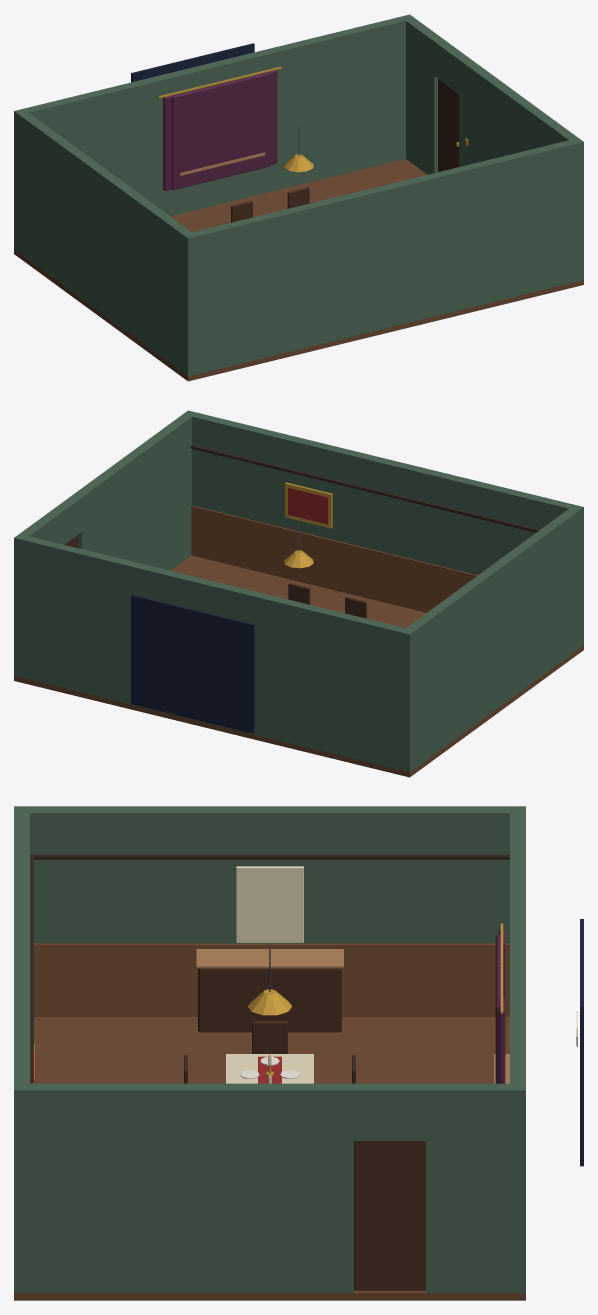
Rendered from greybox.glb.
The picture shows the model from 3 angles, top to bottom: view 1: azimuth 30°, elevation 25°; view 2: azimuth 150°, elevation 25°; view 3: azimuth 270°, elevation 25°; orthographic projection. The views are drawn at different scales.
Parts seen in each view (by area): view 1: wall_s, wall_w, wall_n_b, wall_n_a, curtain_closed, floor, wall_e_a, wall_e_b, wall_n_sill, front_door, wall_n_head, sky (+3 smaller); view 2: wall_s, wall_w, wall_n_a, wall_n_b, sky, wainscot_s, wall_e_a, floor, wall_n_head, rail_s, painting_canvas, wall_e_lintel (+2 smaller); view 3: wall_e_a, wall_w, floor, wainscot_w, wall_e_b, front_door, sideboard, wall_s, mirror_cover, wall_n_b, wall_e_lintel, sideboard_top (+10 smaller).
Boxes of the visible parts, left/top/right/bottom form: wall_s: left=182, top=138, right=583, bottom=376; wall_w: left=19, top=112, right=191, bottom=372; wall_n_b: left=250, top=14, right=414, bottom=195; wall_n_a: left=14, top=72, right=179, bottom=252; curtain_closed: left=171, top=72, right=271, bottom=190; floor: left=14, top=159, right=583, bottom=381; wall_e_a: left=459, top=57, right=577, bottom=166; wall_e_b: left=406, top=18, right=443, bottom=174; wall_n_sill: left=179, top=170, right=254, bottom=213; front_door: left=438, top=79, right=458, bottom=171; wall_n_head: left=175, top=53, right=254, bottom=93; sky: left=131, top=43, right=254, bottom=82; wall_s: left=183, top=410, right=583, bottom=648; wall_w: left=406, top=508, right=578, bottom=768; wall_n_a: left=249, top=591, right=415, bottom=772; wall_n_b: left=14, top=534, right=178, bottom=714; sky: left=131, top=594, right=254, bottom=733; wainscot_s: left=191, top=505, right=477, bottom=612; wall_e_a: left=73, top=414, right=191, bottom=570; floor: left=14, top=555, right=583, bottom=777; wall_n_head: left=174, top=573, right=254, bottom=622; rail_s: left=190, top=445, right=539, bottom=532; painting_canvas: left=288, top=487, right=328, bottom=524; wall_e_lintel: left=48, top=495, right=81, bottom=544; wall_e_a: left=30, top=1083, right=353, bottom=1293; wall_w: left=30, top=806, right=509, bottom=943; floor: left=14, top=1017, right=525, bottom=1300; wainscot_w: left=34, top=943, right=509, bottom=1016; wall_e_b: left=426, top=1083, right=509, bottom=1293; front_door: left=354, top=1141, right=425, bottom=1290; sideboard: left=198, top=968, right=341, bottom=1032; wall_s: left=14, top=806, right=29, bottom=1293; mirror_cover: left=236, top=866, right=303, bottom=942; wall_n_b: left=510, top=975, right=525, bottom=1293; wall_e_lintel: left=354, top=1083, right=425, bottom=1140; sideboard_top: left=196, top=949, right=343, bottom=968.
Bounding box in the file's own units: 8.4 × 2.9 × 7.13.
Materials: 1 (1 with a texture image).
